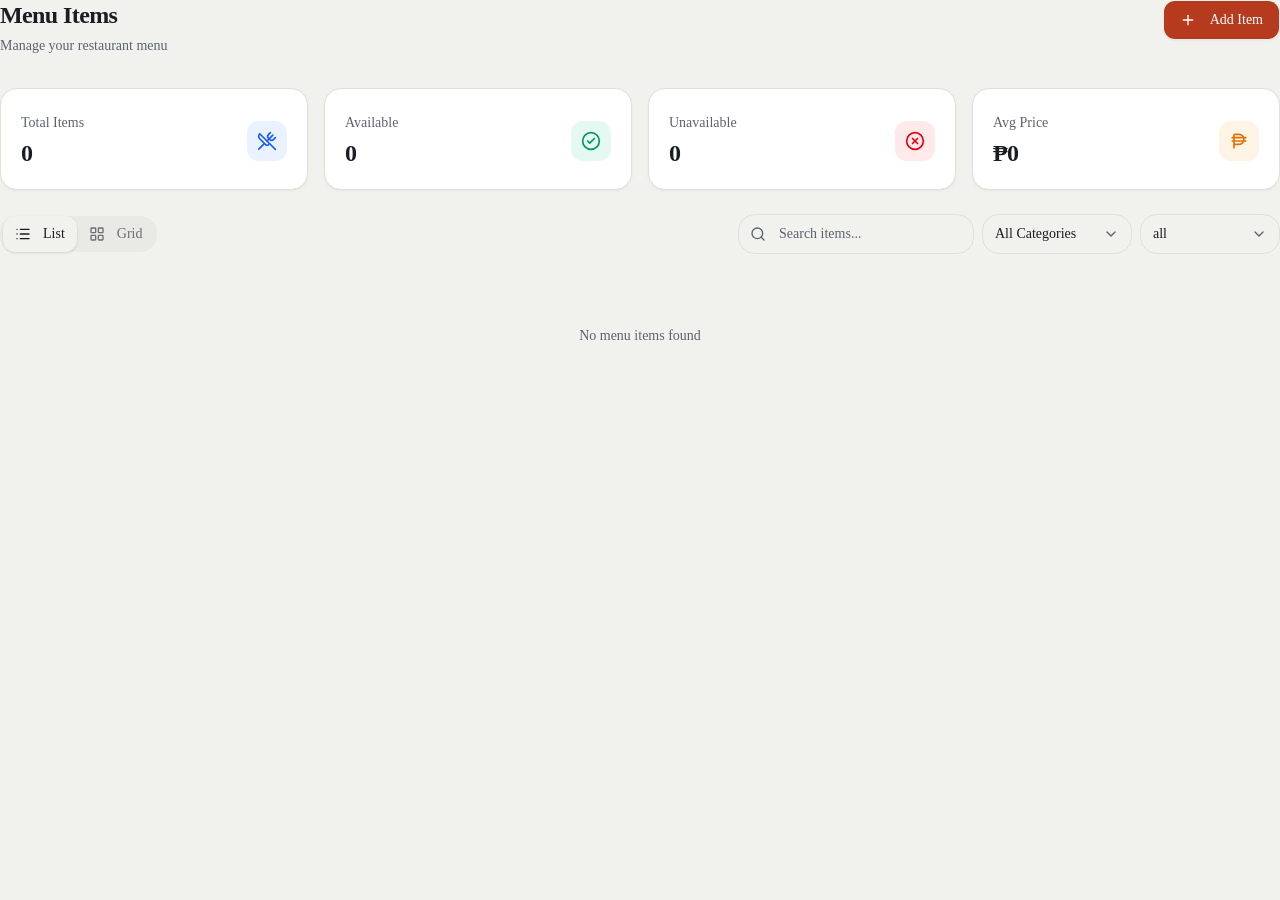
Test: Edit Item modal layout › renders a Cancel action that closes the dialog
Click the button "Add Item" at (1221, 20), box [1163,0,1279,40]
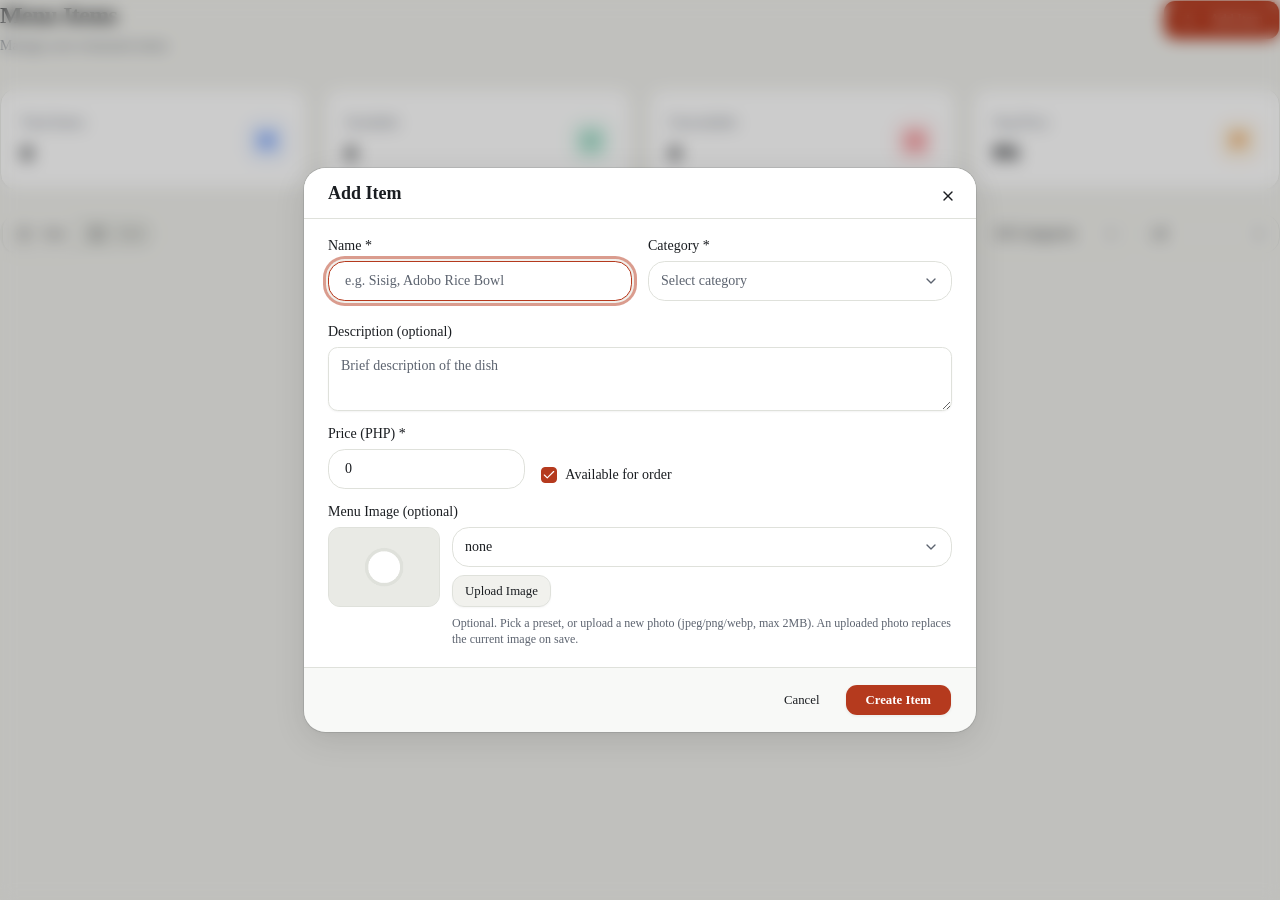
Click the button "Cancel" at (802, 700), box [771,684,832,716]
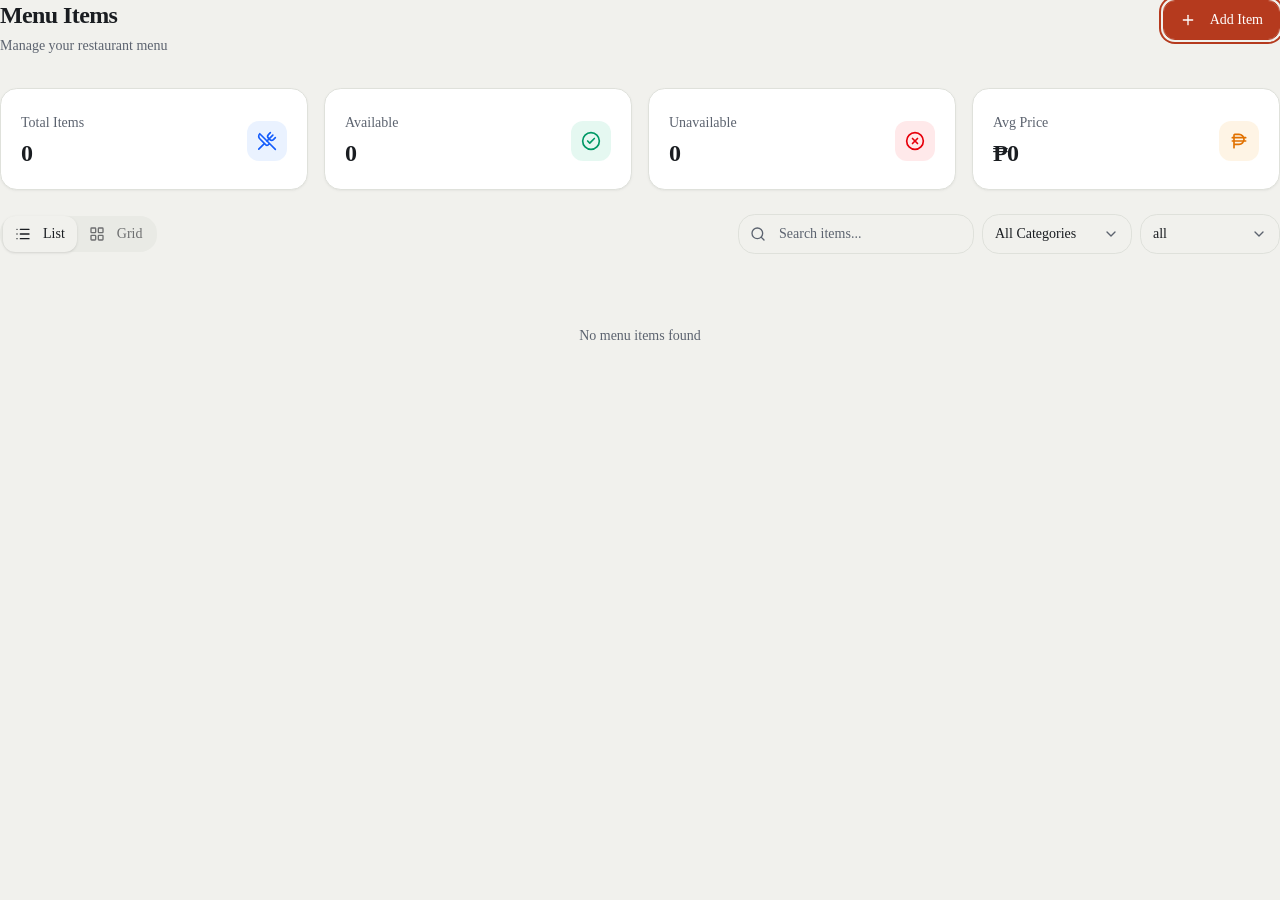
expect the button "Create Item" is gone: met
